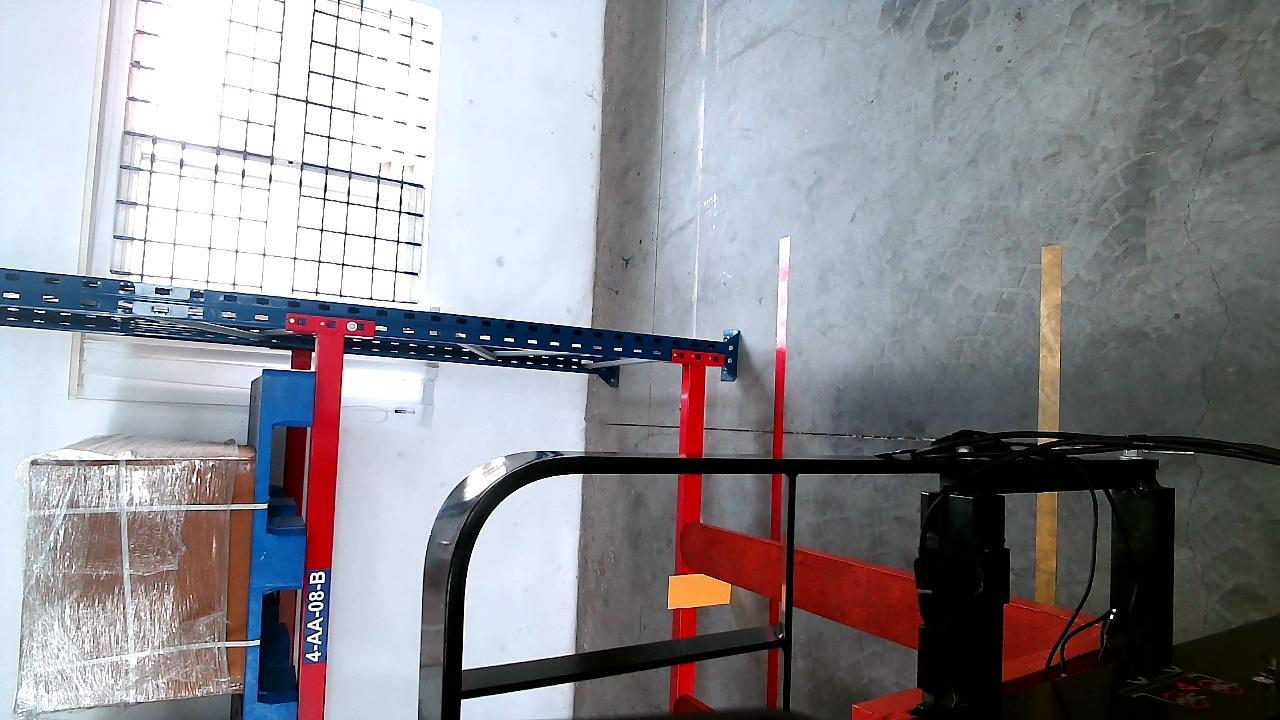red_line: (770, 237, 792, 542)
yellow_line: (1038, 237, 1059, 437)
